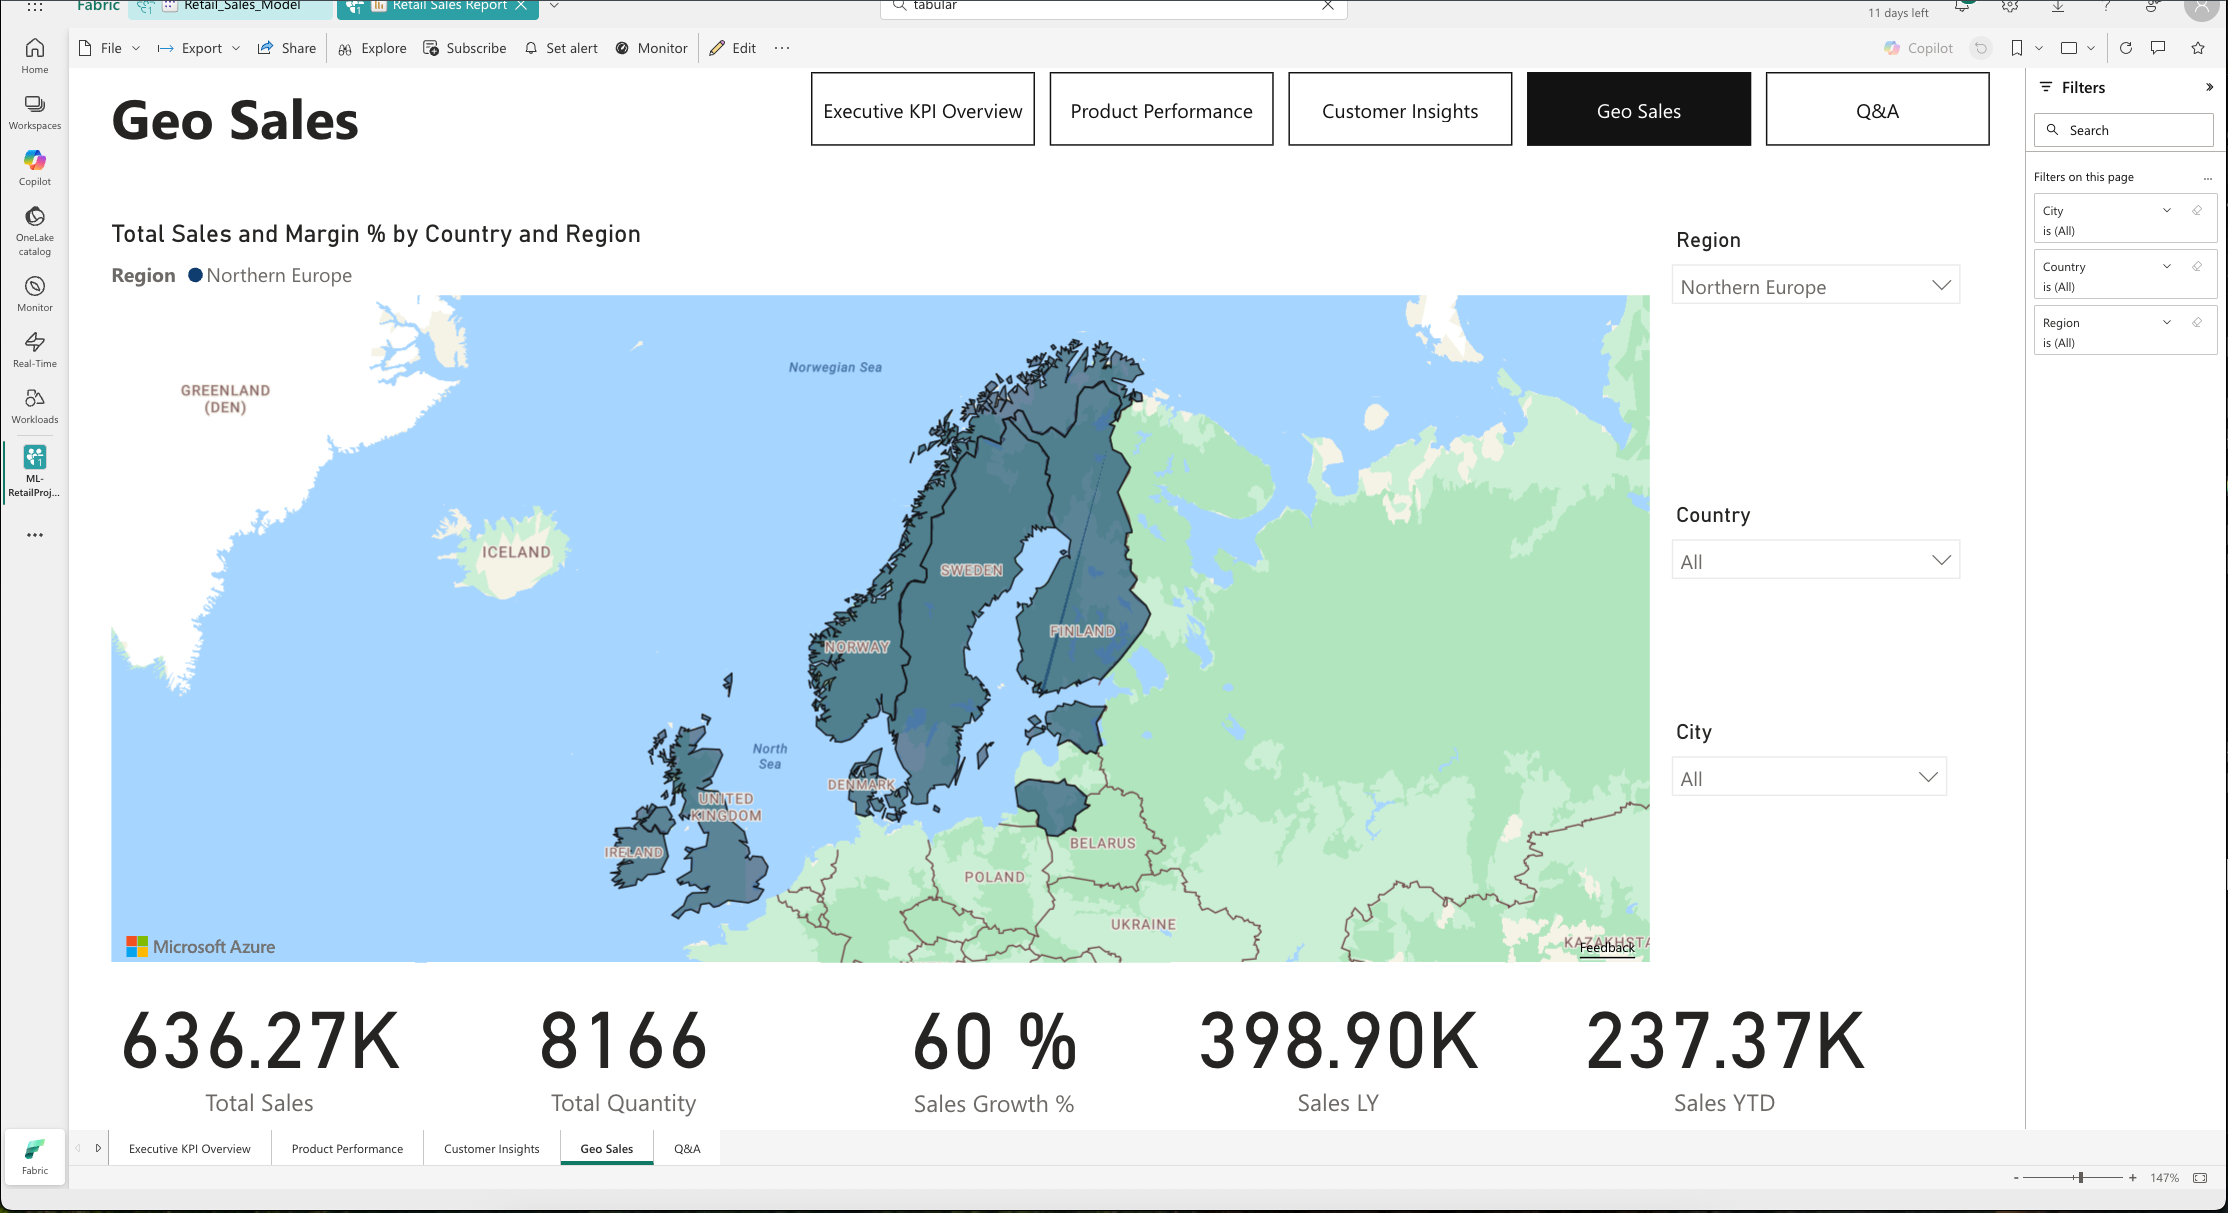

What the dashboard file says about the page in this screenshot:
{"tool":"powerbi","page":{"name":"Geo Sales","canvas":[1280,720],"ordinal":3},"visuals":[{"type":"azureMap","fields":{"Series":["gold_dim_geo.Region"],"Category":["gold_dim_geo.Country"]},"box":[0,105,1054,507],"z":0},{"type":"card","fields":{"Values":["gold_fact_sales.Total Sales"]},"box":[0,607,211,113],"z":1000},{"type":"card","fields":{"Values":["gold_fact_sales.Total Quantity"]},"box":[219,607,267,113],"z":2000},{"type":"card","fields":{"Values":["gold_fact_sales.Sales Growth %"]},"box":[477,610,254,108],"z":3000},{"type":"card","fields":{"Values":["gold_fact_sales.Sales LY"]},"box":[724,607,227,113],"z":4000},{"type":"card","fields":{"Values":["gold_fact_sales.Sales YTD"]},"box":[957,607,286,113],"z":5000},{"type":"slicer","fields":{"Values":["gold_dim_geo.Country"]},"box":[1054,292,216,136],"z":6000},{"type":"slicer","fields":{"Values":["gold_dim_geo.City"]},"box":[1054,439,207,168],"z":7000},{"type":"slicer","fields":{"Values":["gold_dim_geo.Region"]},"box":[1054,105,216,187],"z":8000},{"type":"textbox","box":[0,3.3,400.3,101.7],"z":9000},{"type":"pageNavigator","box":[480,3,800,50],"z":10000}]}

Visuals, with their boxes on the page's 1280x720 design canvas (x1, y1, x2, y2). These are canvas units, not pixel positions in the 2228x1213 screenshot, which may show the page scaled, cropped or inside an application window:
azureMap - gold_dim_geo.Region x gold_dim_geo.Country: pyautogui.locateOnScreen(0, 105, 1054, 612)
card - gold_fact_sales.Total Sales: pyautogui.locateOnScreen(0, 607, 211, 720)
card - gold_fact_sales.Total Quantity: pyautogui.locateOnScreen(219, 607, 486, 720)
card - gold_fact_sales.Sales Growth %: pyautogui.locateOnScreen(477, 610, 731, 718)
card - gold_fact_sales.Sales LY: pyautogui.locateOnScreen(724, 607, 951, 720)
card - gold_fact_sales.Sales YTD: pyautogui.locateOnScreen(957, 607, 1243, 720)
slicer - gold_dim_geo.Country: pyautogui.locateOnScreen(1054, 292, 1270, 428)
slicer - gold_dim_geo.City: pyautogui.locateOnScreen(1054, 439, 1261, 607)
slicer - gold_dim_geo.Region: pyautogui.locateOnScreen(1054, 105, 1270, 292)
textbox: pyautogui.locateOnScreen(0, 3, 400, 105)
pageNavigator: pyautogui.locateOnScreen(480, 3, 1280, 53)
